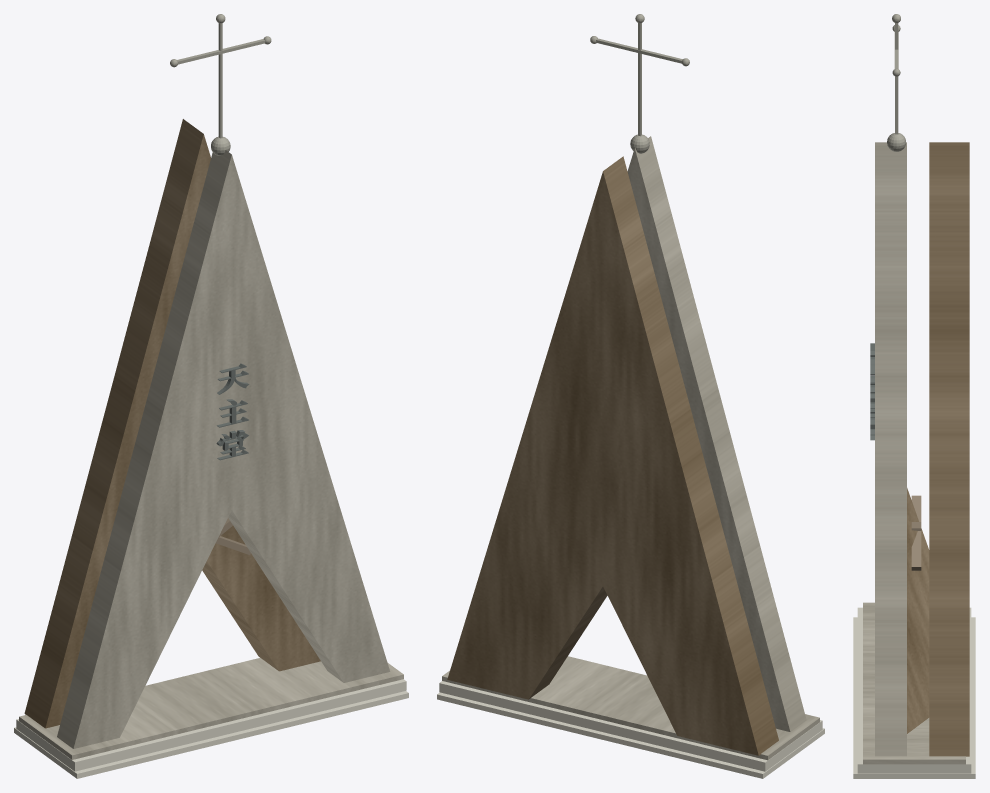
The model's file is gongbaoqiao-perforated-triangular-steeple-near.glb.
The picture shows the model from 3 angles, left to right: view 1: azimuth 30°, elevation 25°; view 2: azimuth 150°, elevation 25°; view 3: azimuth 270°, elevation 25°; orthographic projection. The views are drawn at different scales.
Parts seen in each view (by area): view 1: 嘉定耶稣圣心堂尖塔透空三角与天主堂竖题; view 2: 嘉定耶稣圣心堂尖塔透空三角与天主堂竖题; view 3: 嘉定耶稣圣心堂尖塔透空三角与天主堂竖题.
Part boxes in pixels (x1,y1,x2,y2): 嘉定耶稣圣心堂尖塔透空三角与天主堂竖题: [14, 14, 408, 778]; 嘉定耶稣圣心堂尖塔透空三角与天主堂竖题: [437, 14, 824, 778]; 嘉定耶稣圣心堂尖塔透空三角与天主堂竖题: [853, 14, 975, 778].
Bounding box in the file's own units: 2.49 × 5.08 × 0.82.
Materials: 6 (2 with a texture image).
